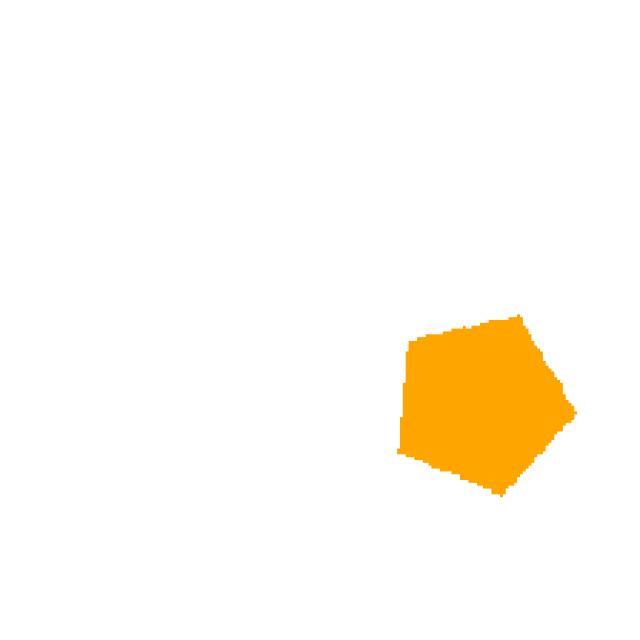Pentagon: (363, 286, 597, 526)
